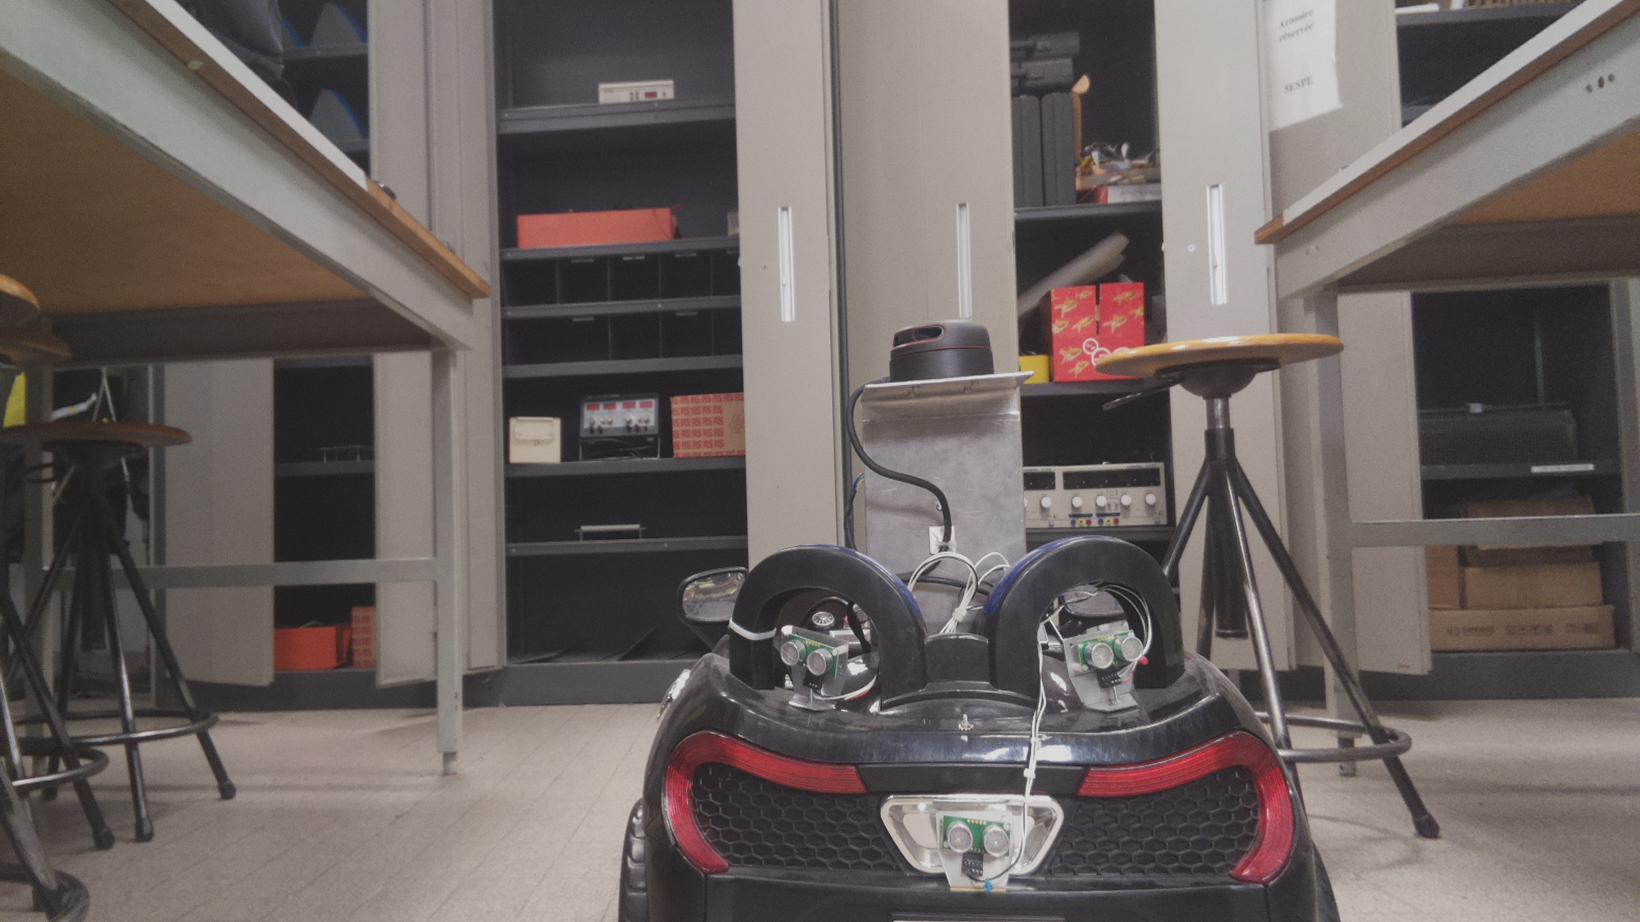big: (605, 532, 1348, 922)
